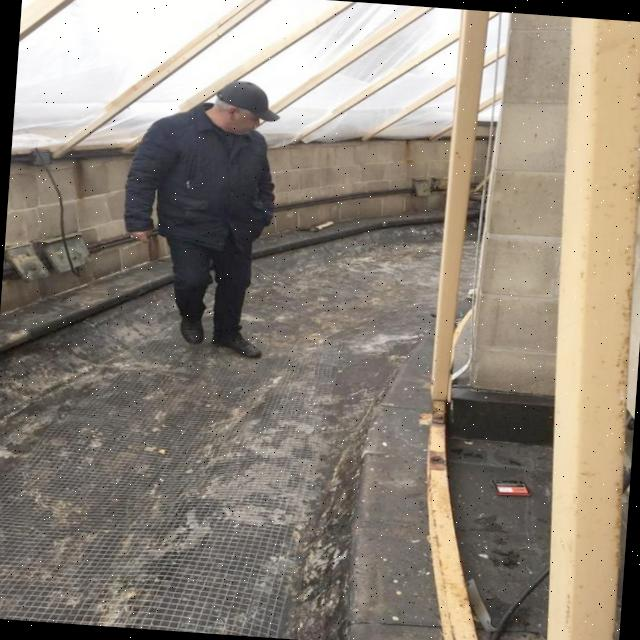NoHelmet: (207, 80, 285, 138)
